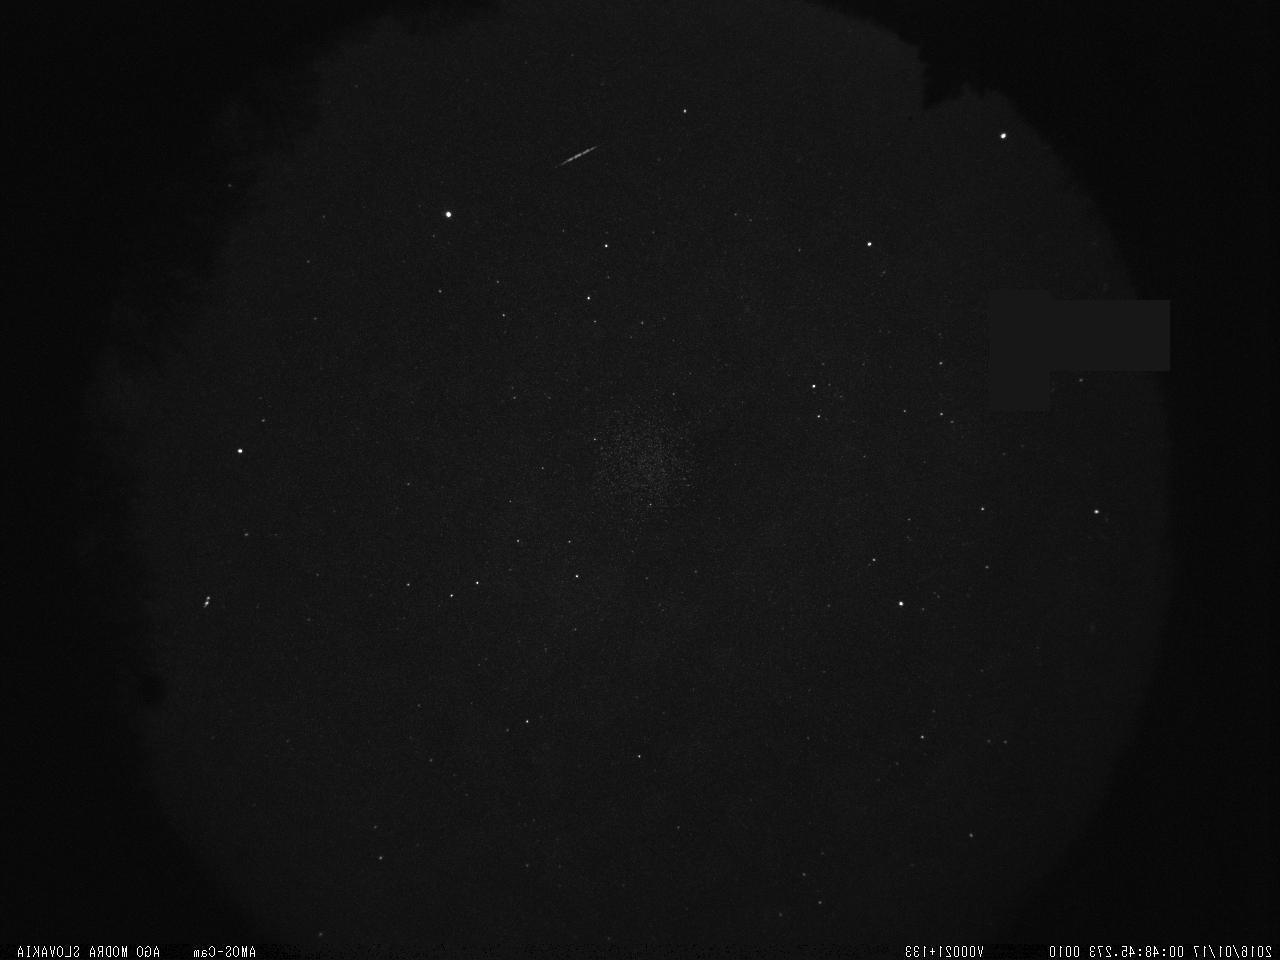meteor: (545, 146, 597, 182)
